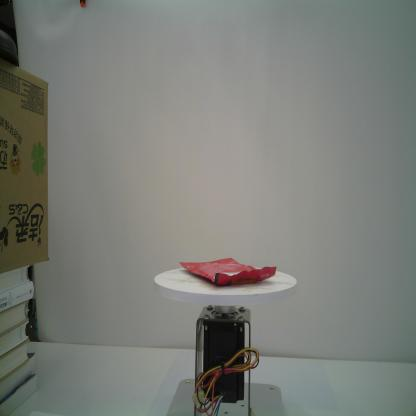Candy: (179, 256, 278, 286)
